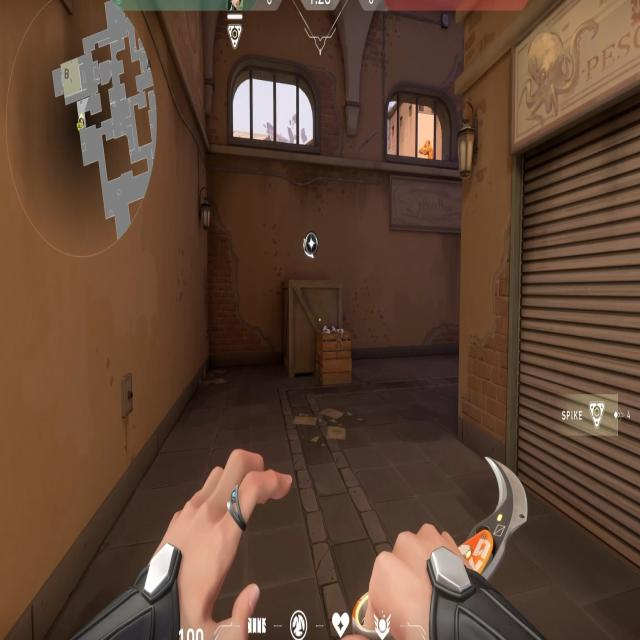B_Main_Wallbang: (277, 226, 356, 398)
Throwables: (228, 45, 324, 163), (381, 78, 455, 178)
